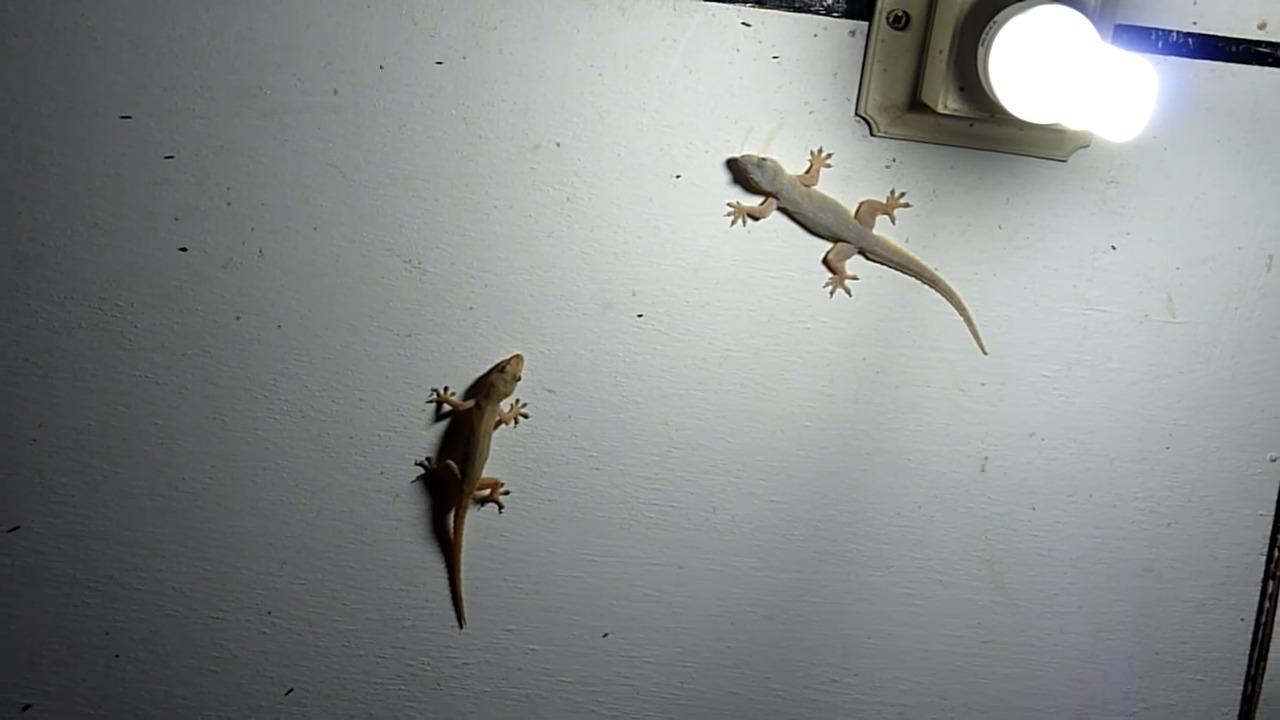lizard: (703, 145, 1009, 363), (413, 337, 602, 629)
